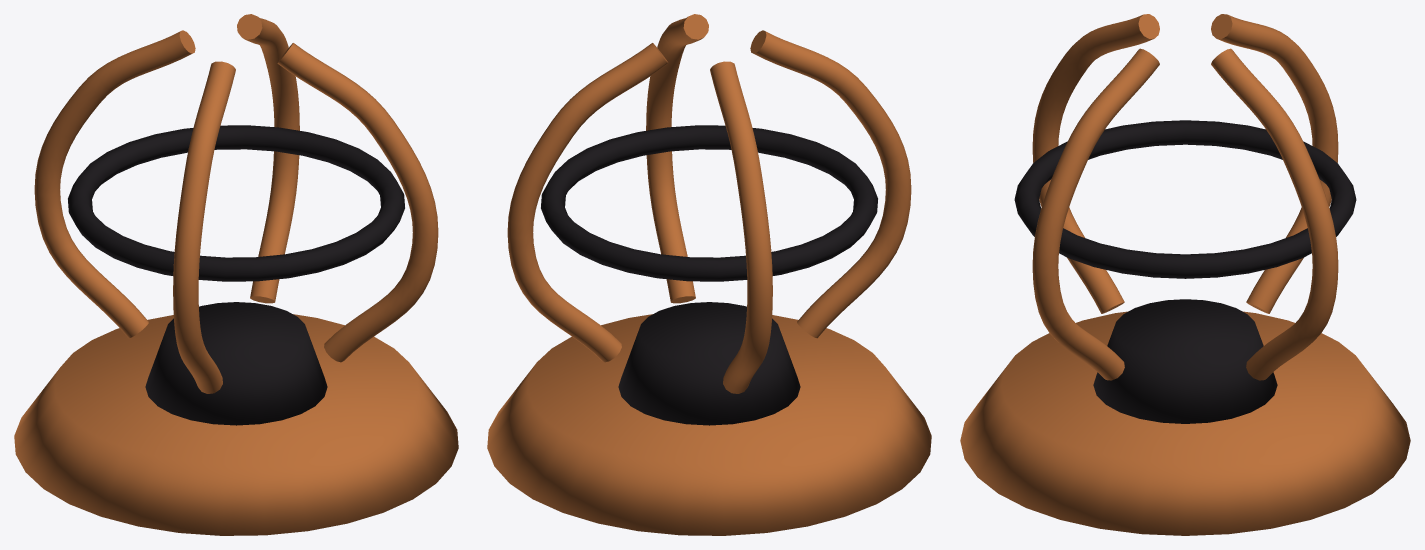
File: pulskern.obj
The picture shows the model from 3 angles, left to right: view 1: azimuth 30°, elevation 25°; view 2: azimuth 150°, elevation 25°; view 3: azimuth 270°, elevation 25°; orthographic projection.
Parts seen in each view (by area): view 1: Pulskern; view 2: Pulskern; view 3: Pulskern.
Part boxes in pixels (x1,y1,x2,y2): Pulskern: (14, 14, 458, 535); Pulskern: (487, 14, 931, 535); Pulskern: (960, 14, 1410, 535).
Size of the model in its own units: 4.4 by 4.41 by 4.4.
